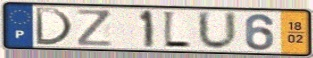1: (136, 9, 157, 50)
6: (243, 12, 276, 52)
D: (33, 6, 75, 47)
L: (162, 9, 193, 51)
U: (196, 9, 241, 52)
Z: (75, 8, 115, 48)
